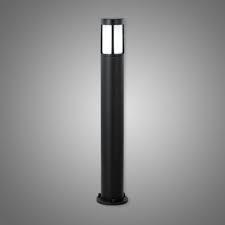Animal: (85, 16, 137, 225)
